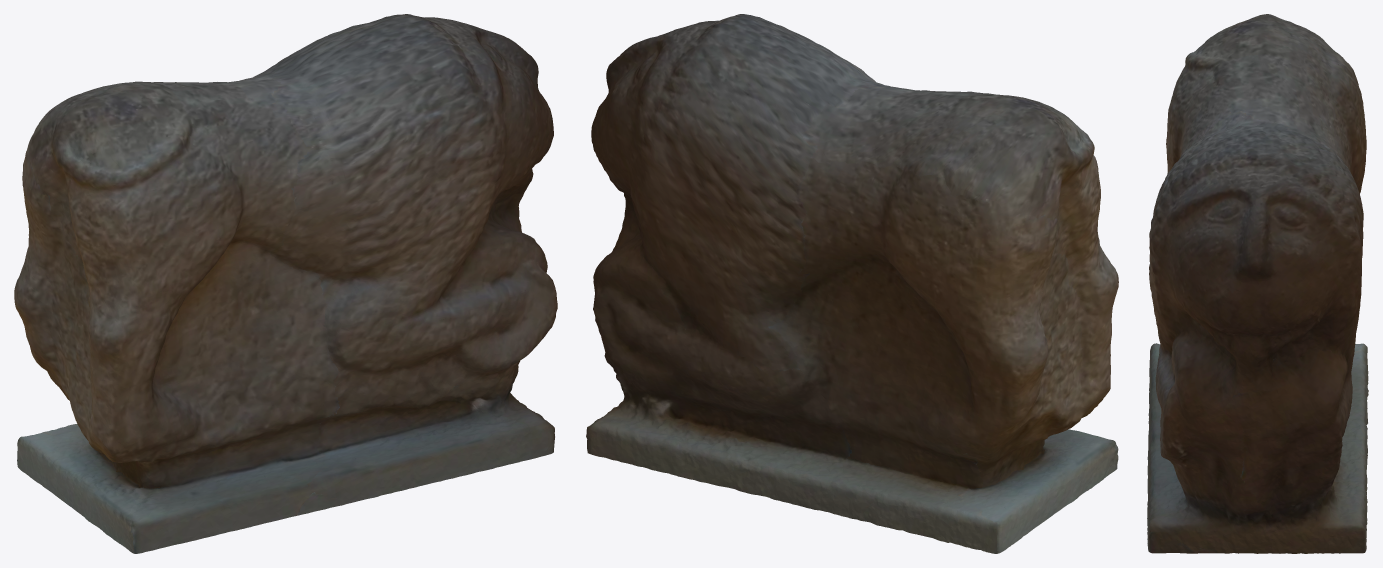
Rendered from preview.glb.
The picture shows the model from 3 angles, left to right: view 1: azimuth 30°, elevation 25°; view 2: azimuth 150°, elevation 25°; view 3: azimuth 270°, elevation 25°; orthographic projection. The views are drawn at different scales.
Parts seen in each view (by area): view 1: Object_2; view 2: Object_2; view 3: Object_2.
Boxes of the visible parts, x1,y1,x2,y2 form: Object_2: [14, 14, 557, 553]; Object_2: [586, 14, 1118, 553]; Object_2: [1147, 14, 1368, 553].
Size of the model in its own units: 5.67 by 4.55 by 2.49.
1 material, 1 textured.
